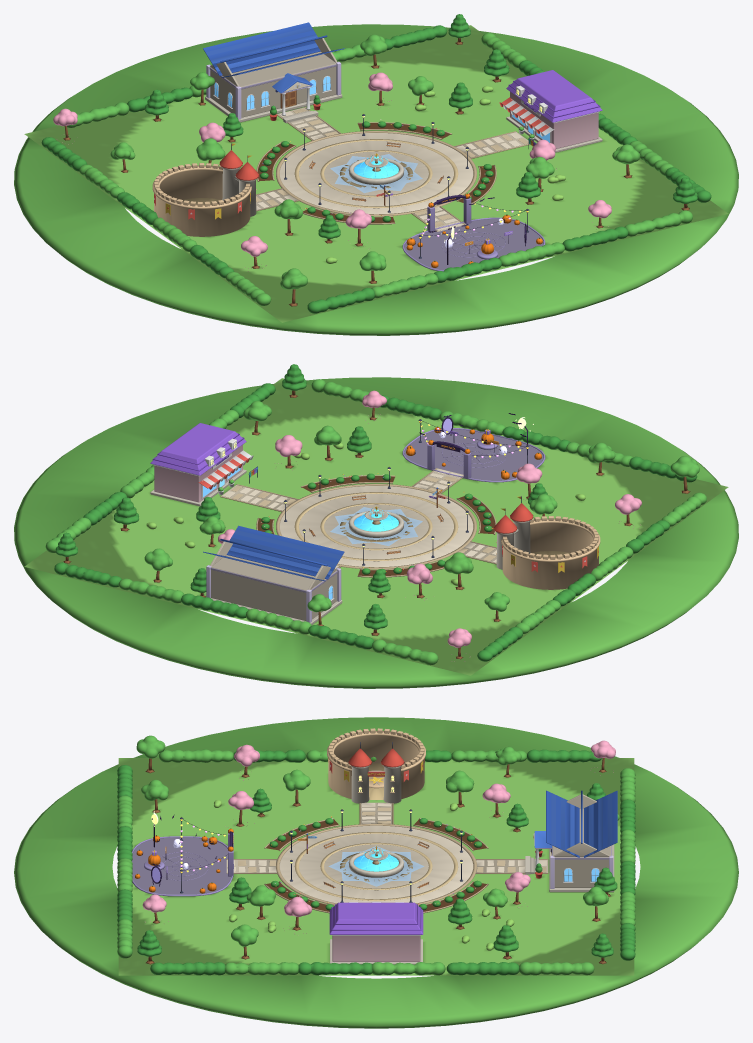
The model's file is campus.6e4cb81be1.glb.
The picture shows the model from 3 angles, top to bottom: view 1: azimuth 30°, elevation 25°; view 2: azimuth 150°, elevation 25°; view 3: azimuth 270°, elevation 25°; orthographic projection.
Visible parts, largest first — view 1: ZONE_ground, ZONE_plaza, ZONE_hall, ZONE_nature2, ZONE_arena, ZONE_nature3, ZONE_event, ZONE_boutique, ZONE_nature0, ZONE_nature1; view 2: ZONE_ground, ZONE_plaza, ZONE_hall, ZONE_nature0, ZONE_nature3, ZONE_arena, ZONE_nature2, ZONE_boutique, ZONE_event, ZONE_nature1; view 3: ZONE_ground, ZONE_plaza, ZONE_nature1, ZONE_hall, ZONE_nature0, ZONE_arena, ZONE_nature3, ZONE_nature2, ZONE_event, ZONE_boutique.
Part boxes in pixels (x1,y1,x2,y2): ZONE_ground: [14, 24, 738, 335]; ZONE_plaza: [256, 113, 496, 224]; ZONE_hall: [203, 22, 344, 123]; ZONE_nature2: [241, 199, 692, 313]; ZONE_arena: [152, 143, 259, 236]; ZONE_nature3: [41, 72, 271, 305]; ZONE_event: [402, 193, 545, 271]; ZONE_boutique: [499, 70, 602, 152]; ZONE_nature0: [67, 14, 509, 127]; ZONE_nature1: [481, 33, 711, 229]; ZONE_ground: [14, 377, 738, 688]; ZONE_plaza: [256, 466, 496, 577]; ZONE_hall: [203, 525, 344, 624]; ZONE_nature0: [54, 497, 438, 665]; ZONE_nature3: [307, 492, 706, 661]; ZONE_arena: [493, 496, 600, 589]; ZONE_nature2: [311, 379, 699, 528]; ZONE_boutique: [150, 423, 257, 506]; ZONE_event: [402, 413, 545, 482]; ZONE_nature1: [45, 364, 386, 552]; ZONE_ground: [14, 717, 738, 1028]; ZONE_plaza: [264, 809, 488, 913]; ZONE_nature1: [137, 877, 594, 975]; ZONE_hall: [525, 790, 617, 892]; ZONE_nature0: [448, 768, 635, 964]; ZONE_arena: [327, 728, 425, 803]; ZONE_nature3: [159, 740, 619, 832]; ZONE_nature2: [117, 735, 310, 958]; ZONE_event: [132, 811, 233, 896]; ZONE_boutique: [329, 902, 423, 964].
Size of the model in its own units: 69.2 by 7.3 by 69.2.
